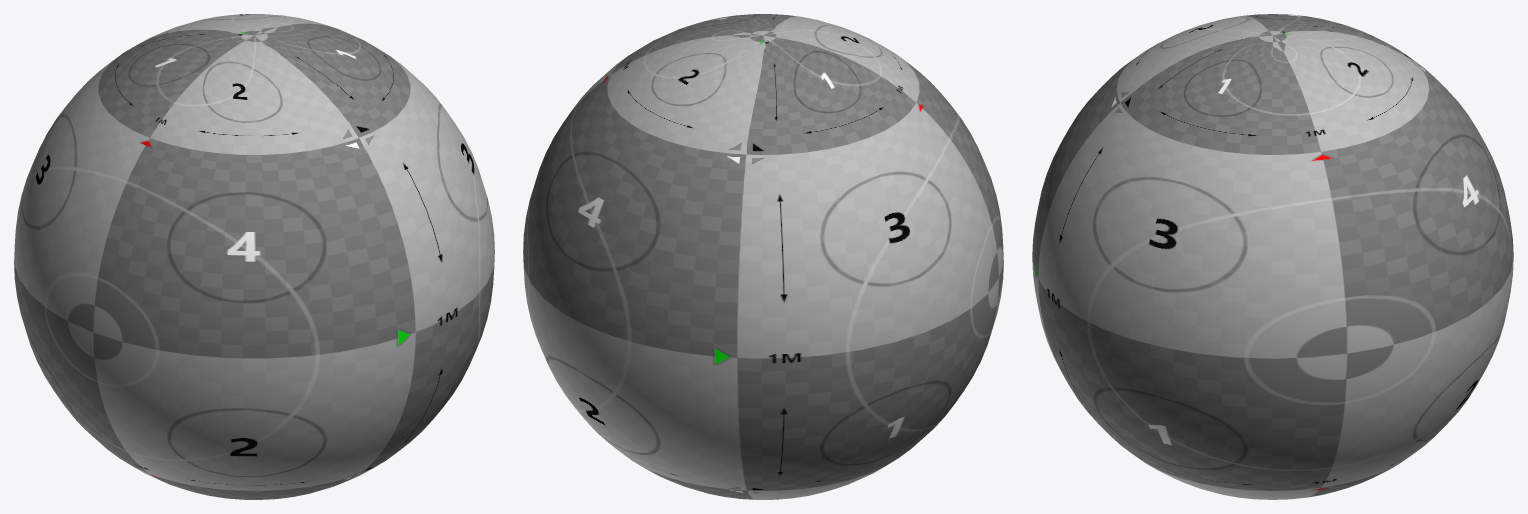
File: PolarSphere.fbx
3 renders of one model, left to right at view 1: azimuth 30°, elevation 25°; view 2: azimuth 150°, elevation 25°; view 3: azimuth 270°, elevation 25°, orthographic.
Visible parts, largest first — view 1: PolarSphere_UV_stretch_1m; view 2: PolarSphere_UV_stretch_1m; view 3: PolarSphere_UV_stretch_1m.
Boxes of the visible parts, box(x1,y1,x2,y2) form: PolarSphere_UV_stretch_1m: box(14, 14, 494, 499); PolarSphere_UV_stretch_1m: box(523, 14, 1003, 499); PolarSphere_UV_stretch_1m: box(1032, 14, 1513, 499).
Bounding box in the file's own units: 0.9847 × 0.999 × 0.9847.
1 material, 1 textured.
